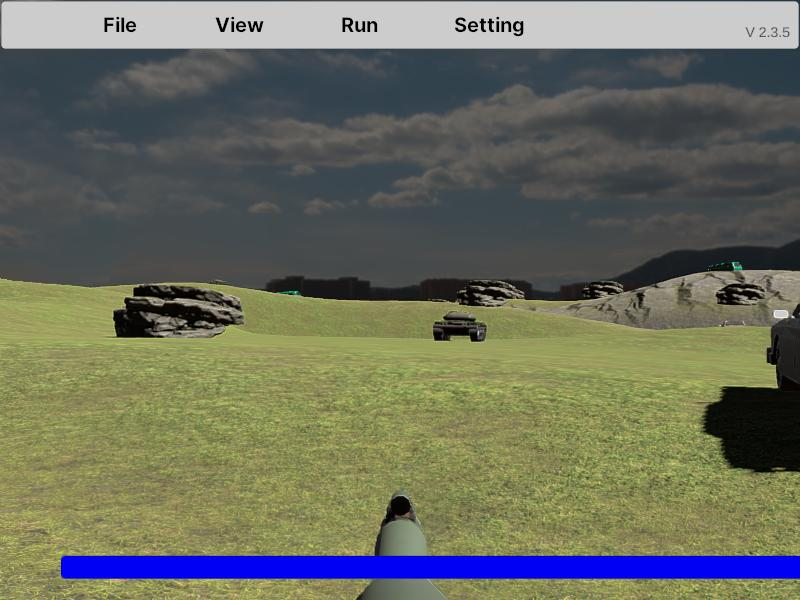Tank: (433, 312, 487, 342)
car: (766, 296, 800, 412)
